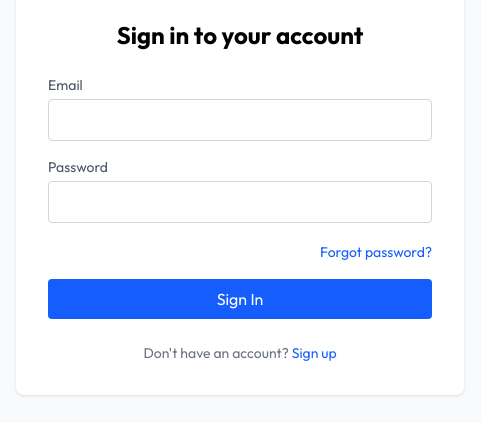
Test case: LoginPage › shows a validation error message when login fails
This screenshot has width=481, height=423.
Type "jane@example.com" into the field labelled "Email" at (240, 120), box [48, 99, 432, 141]
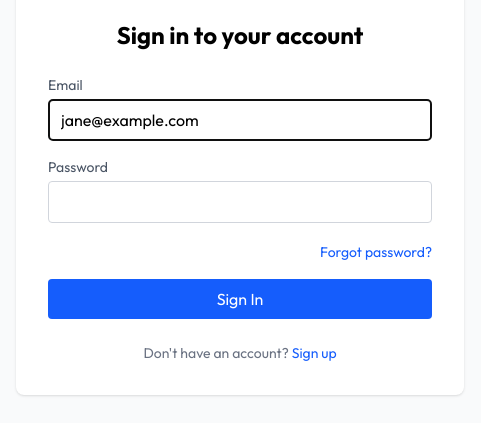
Type "WrongPassword" into the password field labelled "Password" at (240, 202), box [48, 181, 432, 223]
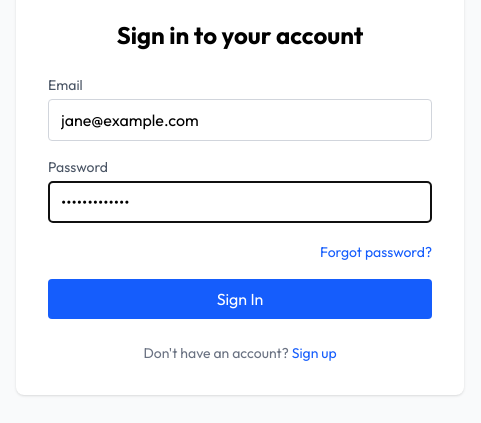
Click the button "Sign In" at (240, 299), box [48, 279, 432, 319]
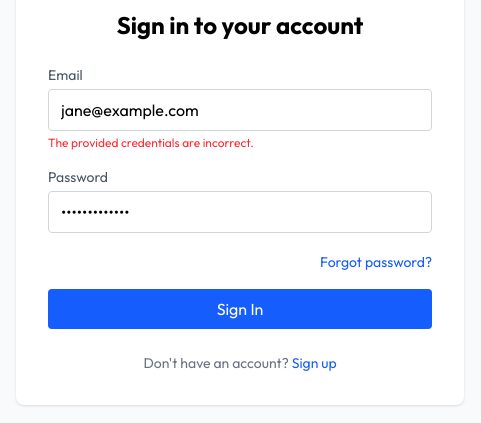
Now the text "The provided credentials are incorrect." is shown, box [48, 135, 254, 150]
